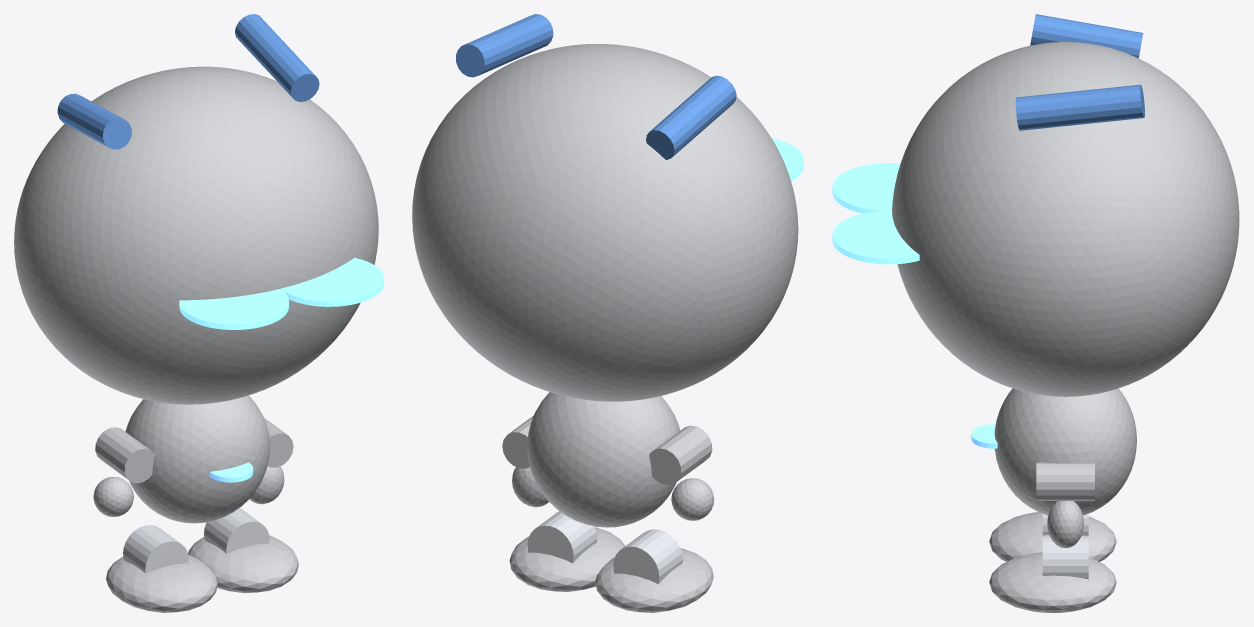
Rendered from vipprow-mascot-v3-waving.glb.
3 renders of one model, left to right at view 1: azimuth 30°, elevation 25°; view 2: azimuth 150°, elevation 25°; view 3: azimuth 270°, elevation 25°, orthographic. The views are drawn at different scales.
Parts seen in each view (by area): view 1: head, torso, foot_left, foot_right, ear_right, eye_ring_left, eye_ring_right, ear_left, arm_left_upper, leg_left, leg_right, hand_left (+3 smaller); view 2: head, torso, foot_left, foot_right, ear_left, ear_right, leg_left, arm_left_upper, leg_right, hand_left, arm_right_upper, hand_right (+1 smaller); view 3: head, torso, foot_right, ear_right, eye_ring_right, foot_left, eye_ring_left, ear_left, arm_right_upper, leg_right, hand_right.
Part boxes in pixels (x1=…): head: x1=14, y1=66, x2=378, y2=404; torso: x1=125, y1=395, x2=269, y2=523; foot_left: x1=106, y1=555, x2=217, y2=612; foot_right: x1=188, y1=535, x2=298, y2=593; ear_right: x1=235, y1=14, x2=319, y2=101; eye_ring_left: x1=179, y1=289, x2=288, y2=329; eye_ring_right: x1=280, y1=257, x2=383, y2=306; ear_left: x1=57, y1=93, x2=131, y2=149; arm_left_upper: x1=95, y1=427, x2=154, y2=483; leg_left: x1=123, y1=525, x2=188, y2=573; leg_right: x1=204, y1=508, x2=269, y2=553; hand_left: x1=93, y1=476, x2=133, y2=516; head: x1=412, y1=44, x2=798, y2=401; torso: x1=527, y1=392, x2=680, y2=527; foot_left: x1=595, y1=548, x2=713, y2=612; foot_right: x1=509, y1=527, x2=625, y2=591; ear_left: x1=646, y1=75, x2=736, y2=159; ear_right: x1=456, y1=14, x2=553, y2=77; leg_left: x1=613, y1=529, x2=682, y2=583; arm_left_upper: x1=649, y1=425, x2=712, y2=485; leg_right: x1=527, y1=511, x2=597, y2=563; hand_left: x1=671, y1=478, x2=714, y2=520; arm_right_upper: x1=502, y1=415, x2=533, y2=468; hand_right: x1=512, y1=467, x2=548, y2=507; head: x1=892, y1=42, x2=1239, y2=396; torso: x1=994, y1=388, x2=1136, y2=515; foot_right: x1=989, y1=552, x2=1116, y2=612; ear_right: x1=1015, y1=84, x2=1144, y2=130; eye_ring_right: x1=832, y1=211, x2=919, y2=264; foot_left: x1=989, y1=512, x2=1116, y2=561; eye_ring_left: x1=832, y1=163, x2=900, y2=213; ear_left: x1=1030, y1=14, x2=1143, y2=58; arm_right_upper: x1=1036, y1=462, x2=1094, y2=500; leg_right: x1=1042, y1=535, x2=1088, y2=579; hand_right: x1=1047, y1=501, x2=1083, y2=548.
Size of the model in its own units: 0.92 by 1.42 by 0.969.
